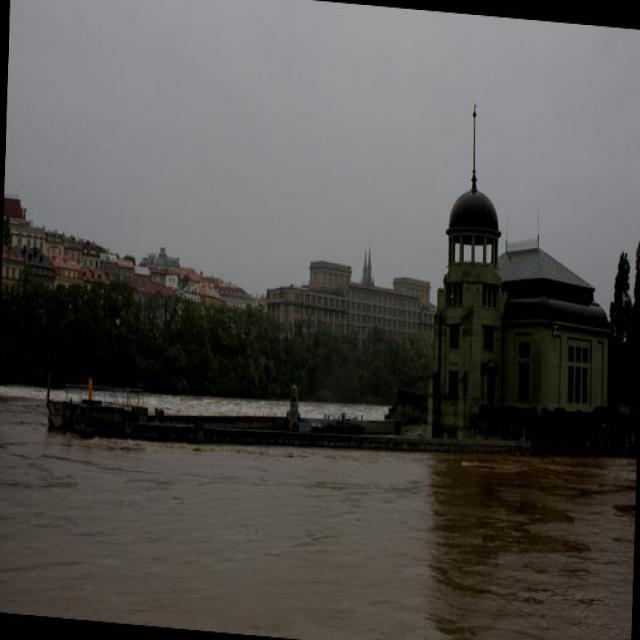flood: (0, 410, 631, 639)
